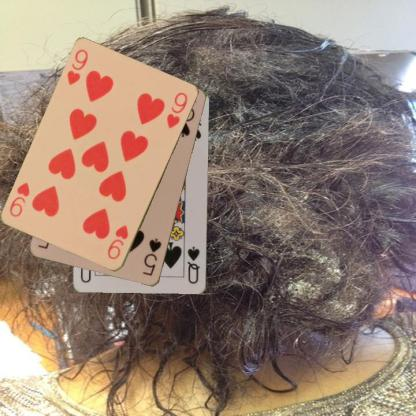5s: (140, 236, 163, 277)
9h: (64, 47, 90, 87), (105, 223, 130, 261)
Qs: (185, 244, 202, 285)
